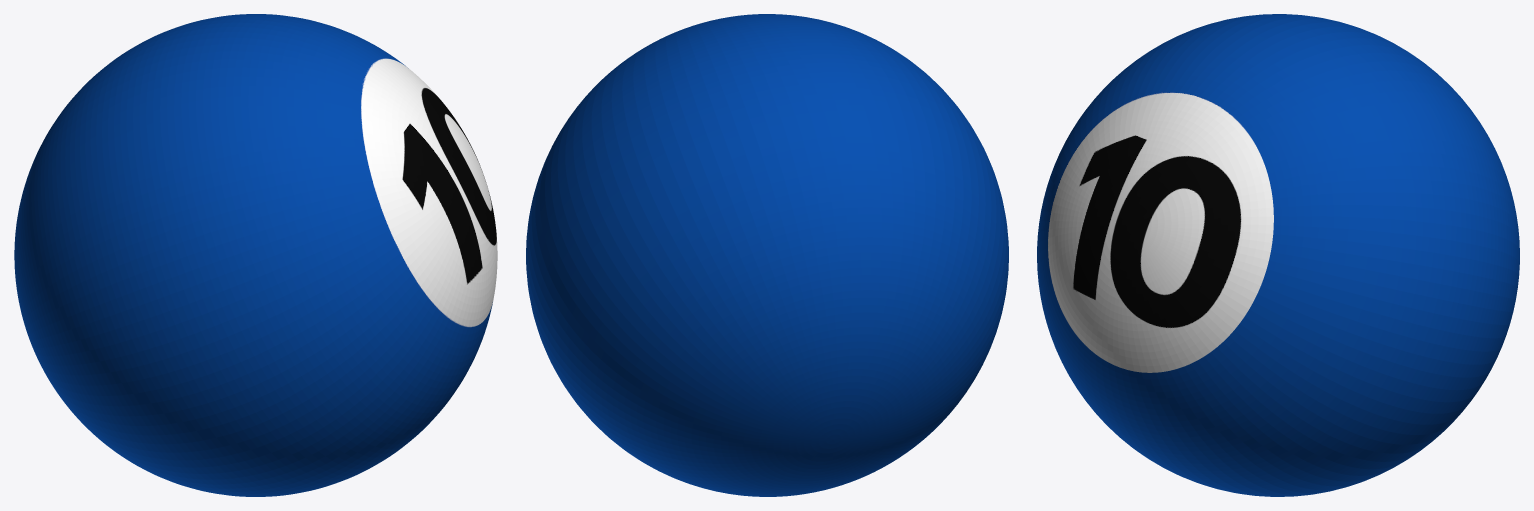
3 renders of one model, left to right at view 1: azimuth 30°, elevation 25°; view 2: azimuth 150°, elevation 25°; view 3: azimuth 270°, elevation 25°, orthographic.
Parts seen in each view (by area): view 1: Sphere; view 2: Sphere; view 3: Sphere.
Boxes of the visible parts, x1,y1,x2,y2 form: Sphere: (14,14,497,496); Sphere: (526,14,1008,496); Sphere: (1037,14,1519,496).
Bounding box in the file's own units: 3.7 × 3.7 × 3.7.
1 material, 1 textured.
